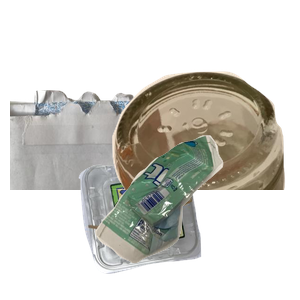glass: (89, 69, 300, 249)
paper: (10, 84, 250, 264)
plastic: (76, 151, 270, 300)
trash: (92, 133, 300, 300)
